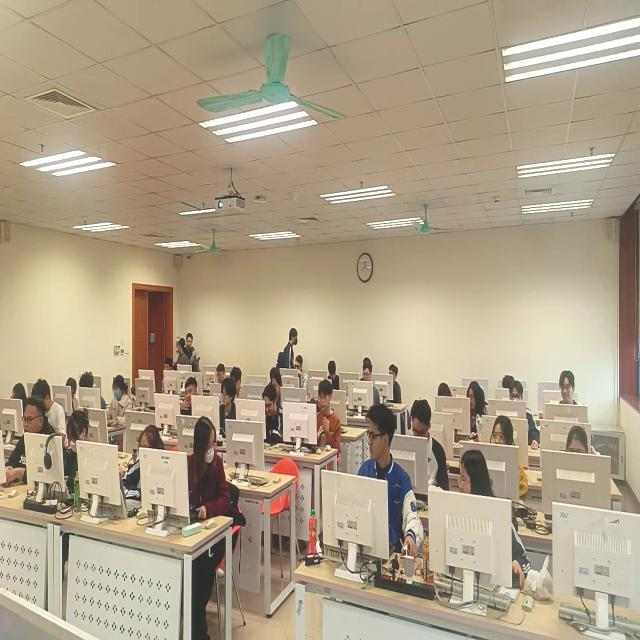raise_head: (491, 416, 531, 502)
stand: (279, 325, 300, 372), (178, 335, 193, 370), (187, 333, 200, 372)
using_computer: (4, 396, 58, 490), (409, 397, 452, 500), (120, 425, 171, 506), (555, 369, 601, 455), (59, 406, 92, 501), (32, 374, 67, 442), (511, 380, 542, 456), (314, 379, 343, 451), (107, 375, 135, 429), (219, 375, 238, 442), (265, 385, 286, 445), (464, 379, 484, 442), (560, 424, 591, 463), (79, 372, 107, 415), (360, 362, 383, 406), (180, 376, 201, 420), (387, 364, 404, 405), (63, 377, 79, 414), (161, 355, 175, 394), (12, 381, 29, 413), (232, 365, 248, 398), (296, 354, 309, 391), (436, 380, 455, 404), (329, 358, 342, 392), (500, 370, 515, 395), (273, 371, 285, 400), (215, 362, 226, 386)
